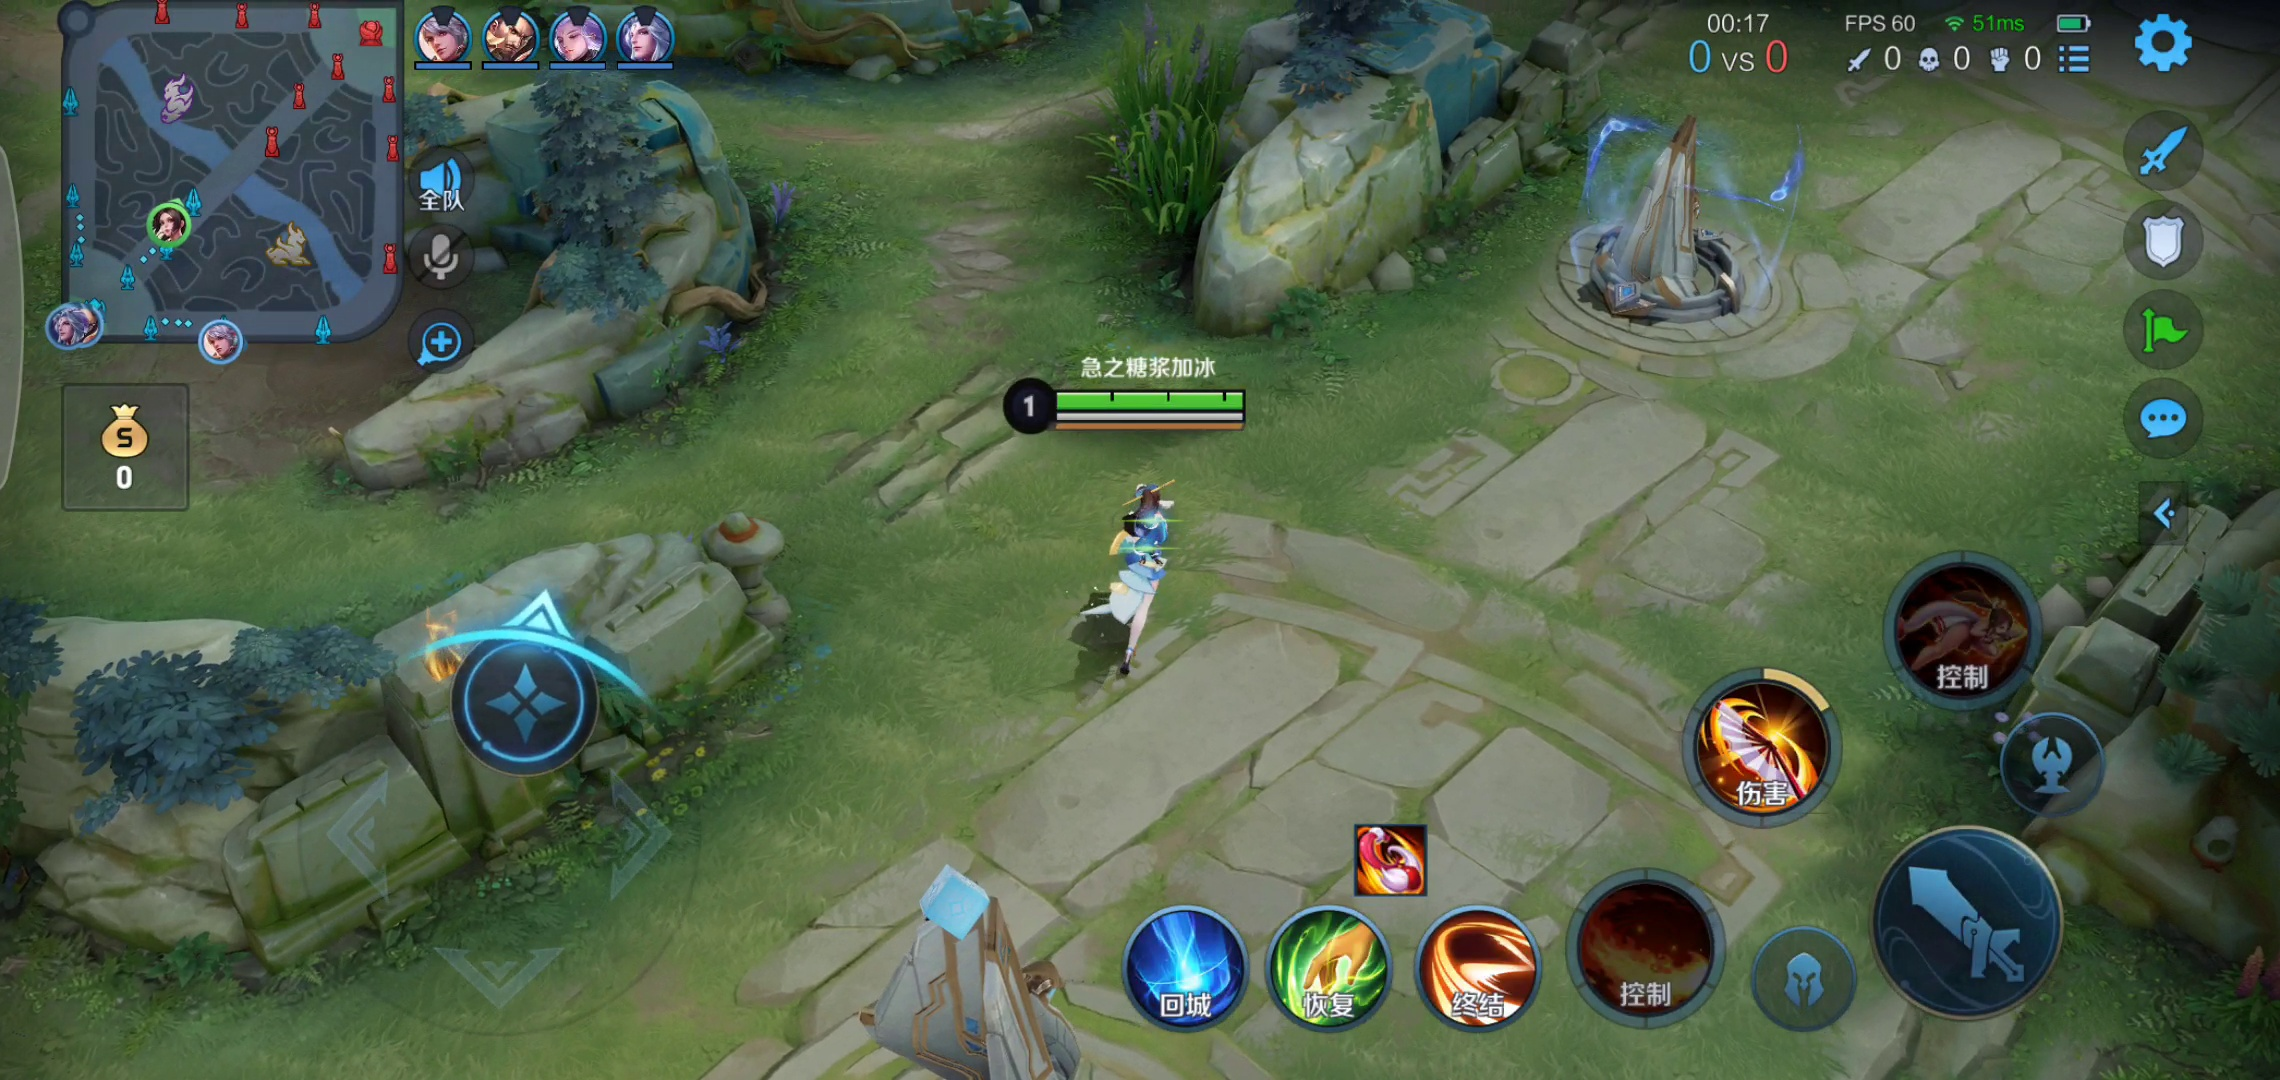grass: (1061, 26, 1220, 246)
hero: (1057, 468, 1216, 680)
tower: (1538, 96, 1799, 344)
